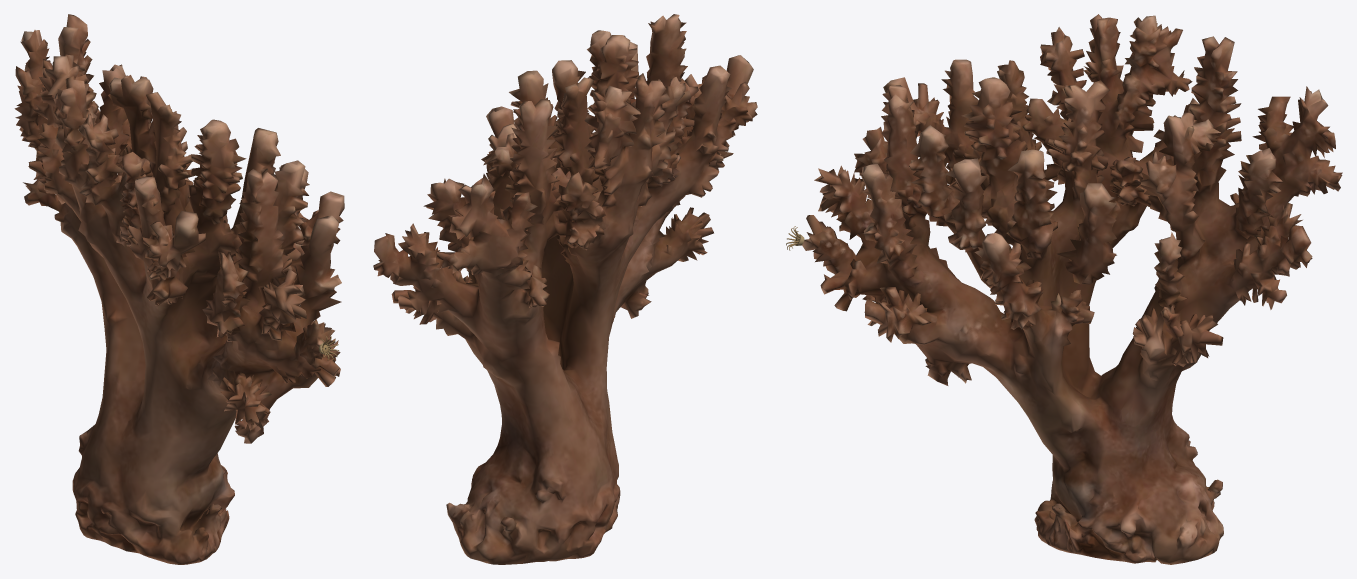
The model's file is acropora_millepora_graft.glb.
3 views of the same model, side by side, from view 1: azimuth 30°, elevation 25°; view 2: azimuth 150°, elevation 25°; view 3: azimuth 270°, elevation 25° (orthographic). The views are drawn at different scales.
Visible parts, largest first — view 1: acropora_milleporaTripoSurface0; view 2: acropora_milleporaTripoSurface0; view 3: acropora_milleporaTripoSurface0.
Part boxes in pixels (<box>): acropora_milleporaTripoSurface0: <box>14,14,344,564</box>; acropora_milleporaTripoSurface0: <box>373,14,757,564</box>; acropora_milleporaTripoSurface0: <box>802,14,1342,564</box>.
Size of the model in its own units: 0.0583 by 0.1149 by 0.1204.
Materials: 4 (1 with a texture image).
